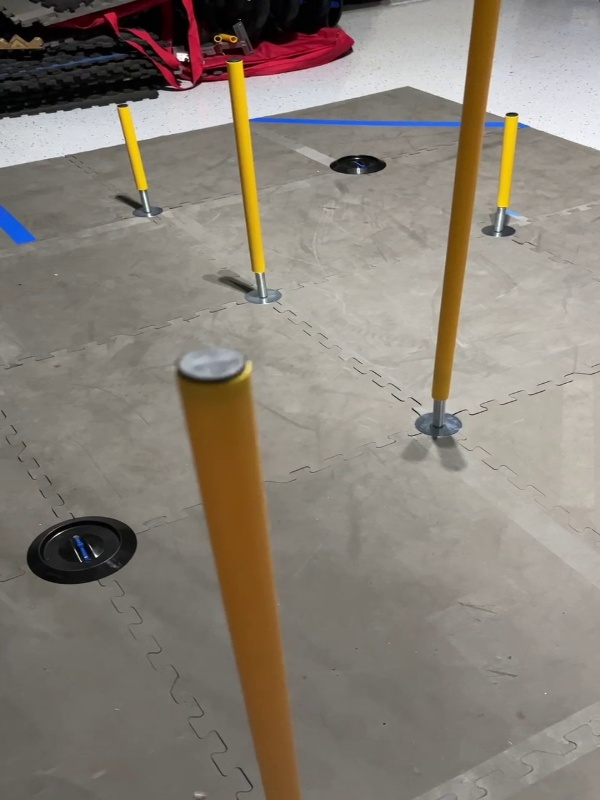top: (167, 343, 252, 388)
